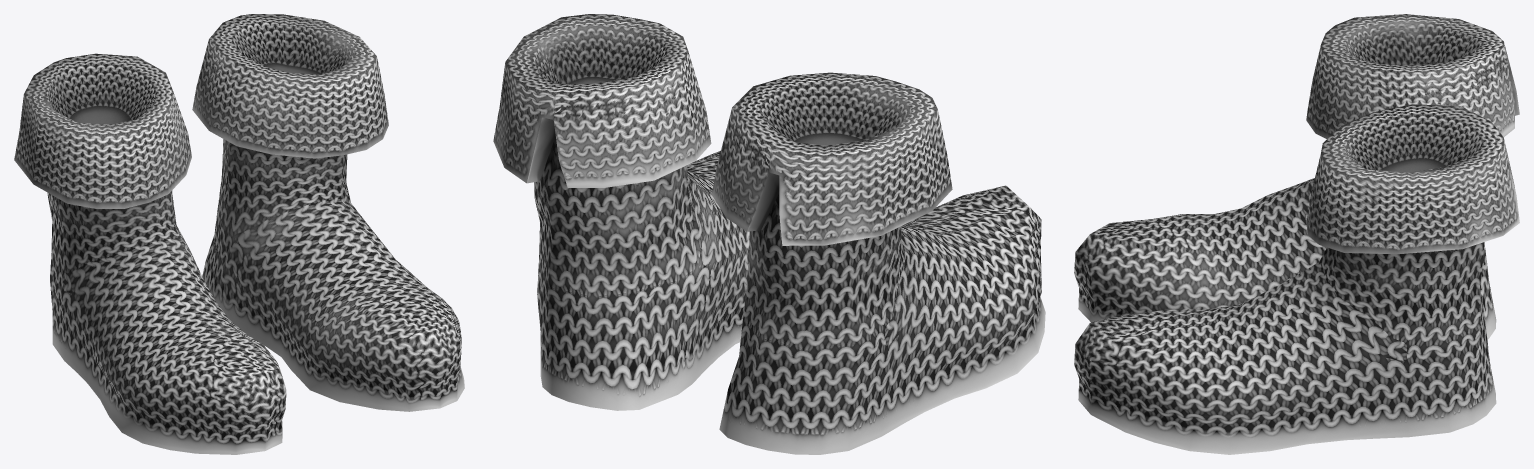
The model's file is 042_chain_boots.fbx.
3 renders of one model, left to right at view 1: azimuth 30°, elevation 25°; view 2: azimuth 150°, elevation 25°; view 3: azimuth 270°, elevation 25°, orthographic. The views are drawn at different scales.
Parts seen in each view (by area): view 1: 042_chain_boots; view 2: 042_chain_boots; view 3: 042_chain_boots.
Part boxes in pixels (x1,y1,x2,y2): 042_chain_boots: (14, 14, 464, 454); 042_chain_boots: (493, 14, 1045, 454); 042_chain_boots: (1074, 14, 1519, 454).
Bounding box in the file's own units: 38.25 × 28.74 × 40.87.
